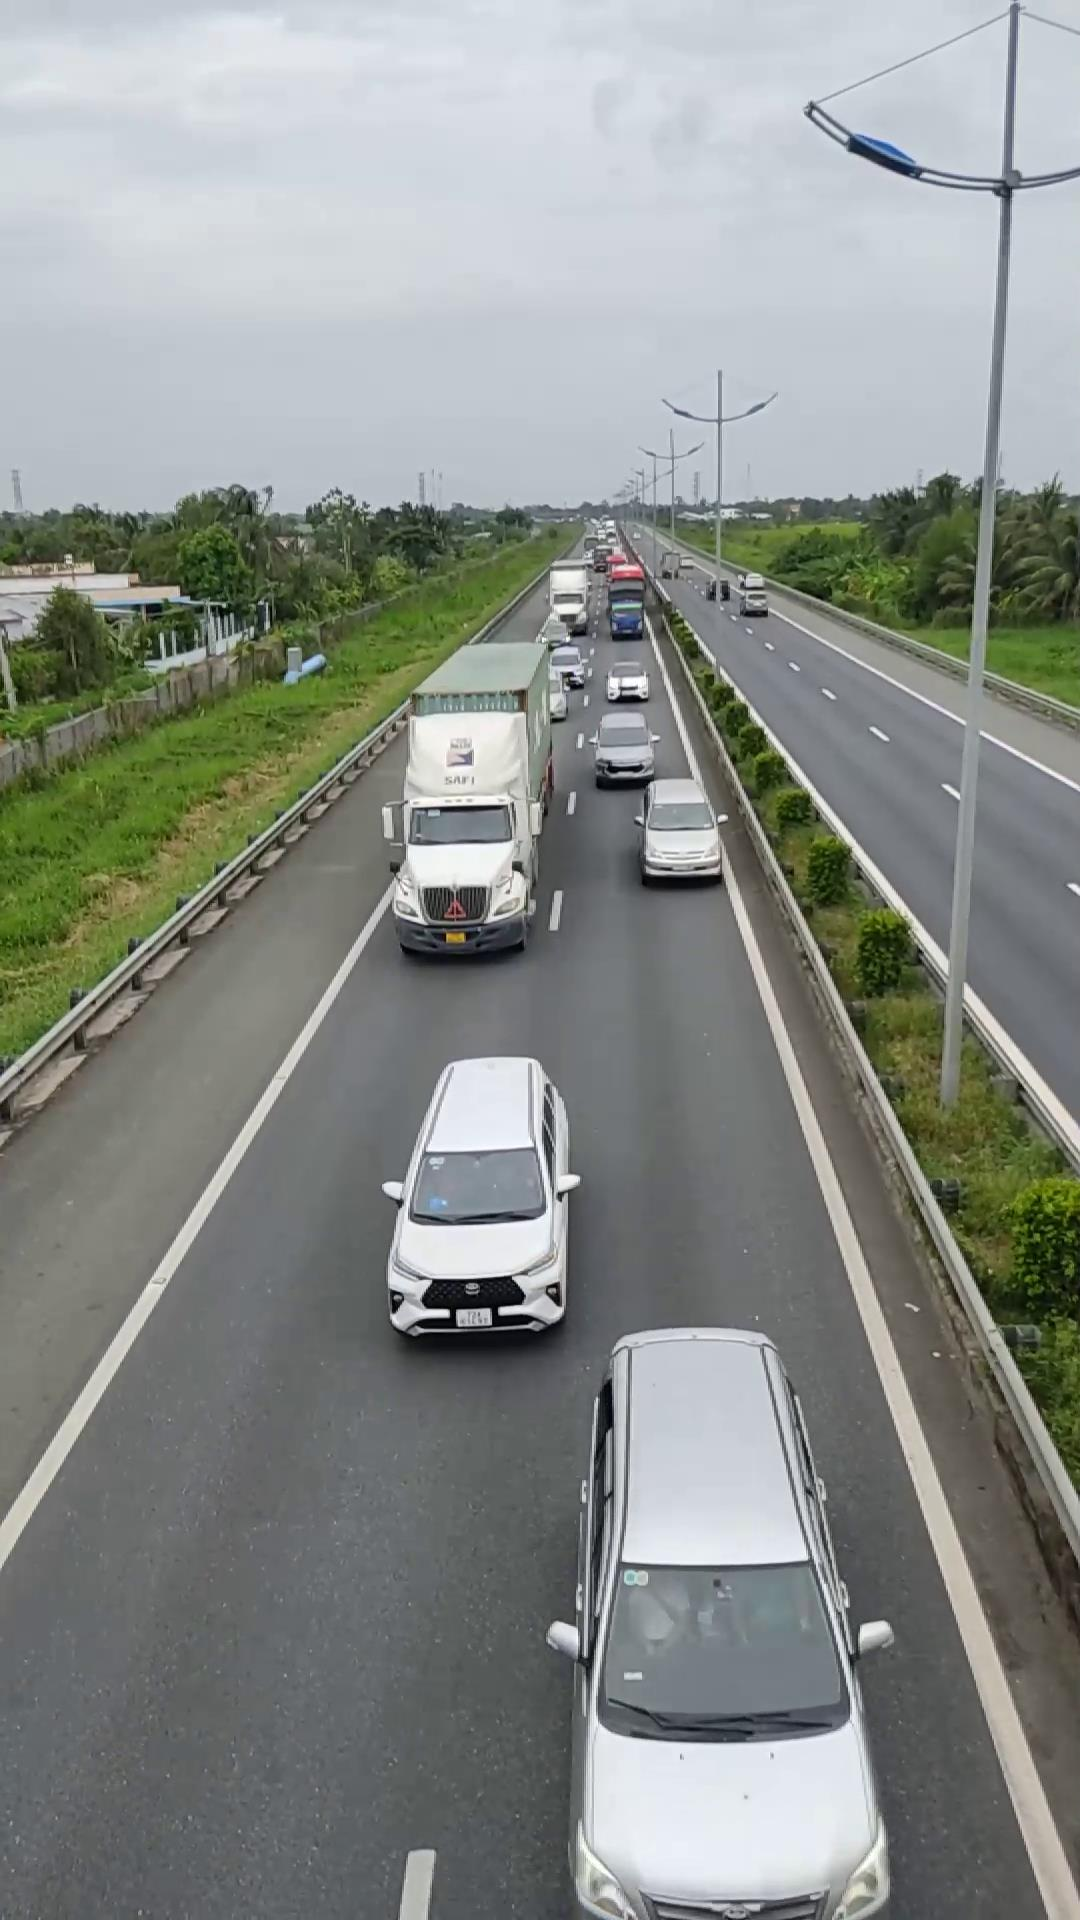car: (555, 1323, 895, 1917), (378, 1052, 581, 1344), (634, 778, 726, 885), (588, 717, 657, 785)
container: (393, 637, 559, 957)
